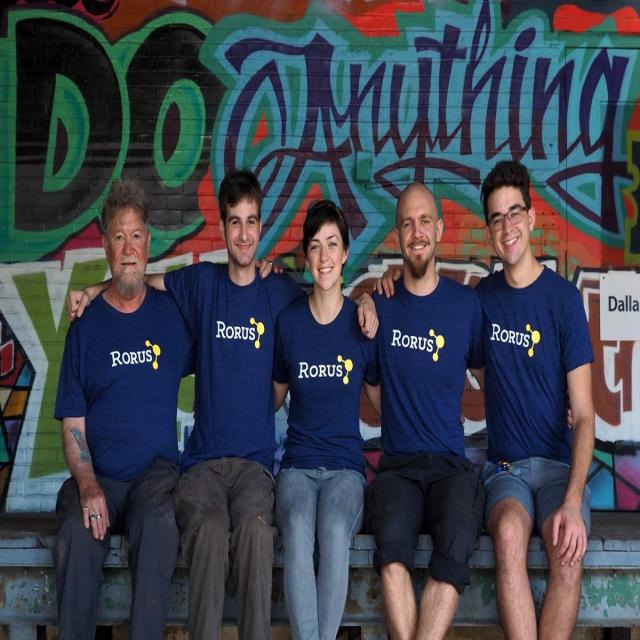body: (61, 164, 383, 639), (49, 172, 285, 639), (370, 156, 597, 639), (360, 180, 485, 640), (262, 192, 379, 639)
